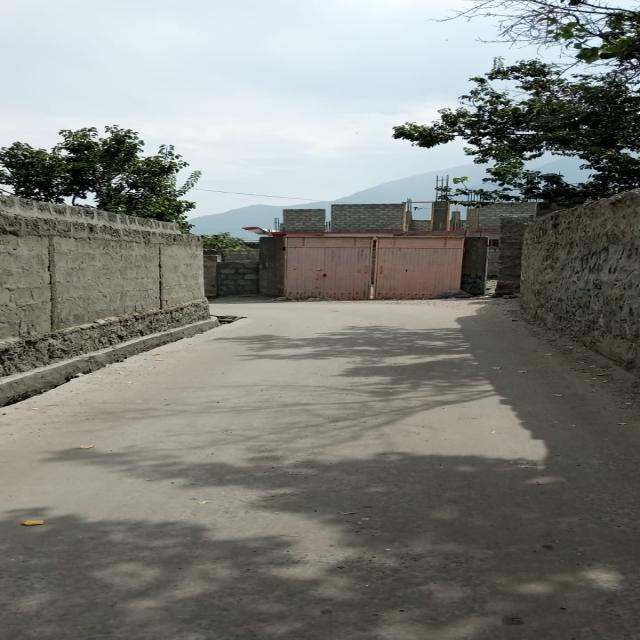Left-Turn: (216, 293, 376, 384)
